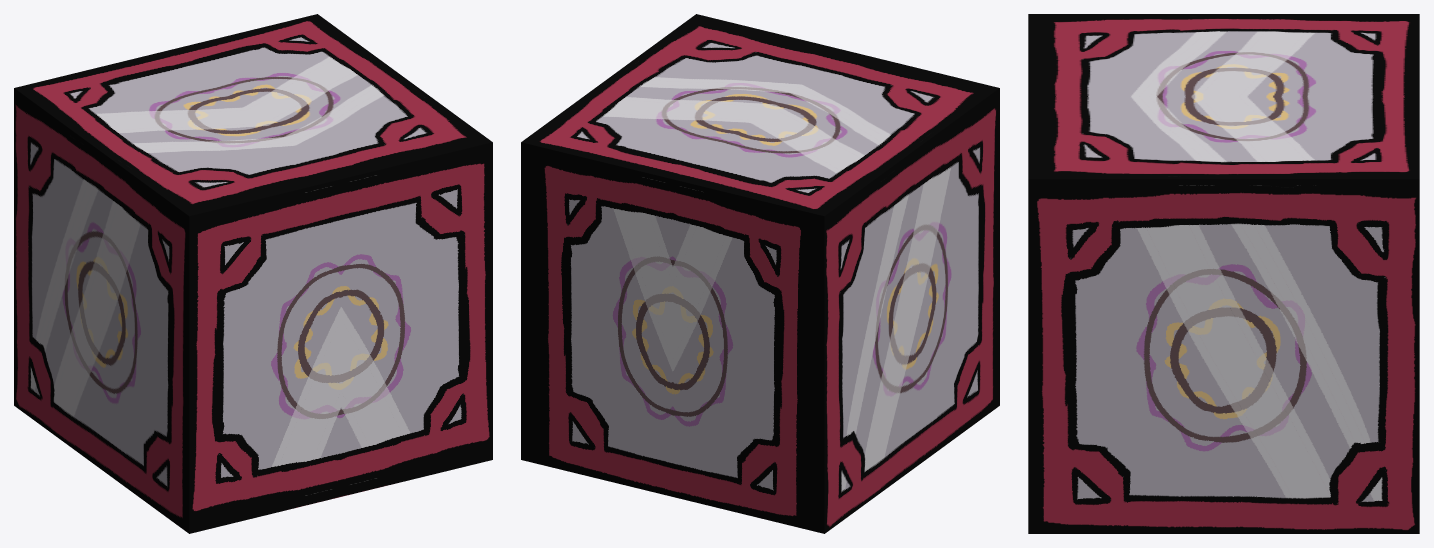
File: Red Switch.fbx
The picture shows the model from 3 angles, left to right: view 1: azimuth 30°, elevation 25°; view 2: azimuth 150°, elevation 25°; view 3: azimuth 270°, elevation 25°; orthographic projection. The views are drawn at different scales.
Visible parts, largest first — view 1: Red Switch; view 2: Red Switch; view 3: Red Switch.
Boxes of the visible parts, box(x1,y1,x2,y2) form: Red Switch: box(14, 14, 492, 533); Red Switch: box(521, 14, 999, 533); Red Switch: box(1028, 14, 1419, 533).
Bounding box in the file's own units: 66.57 × 66.57 × 66.57.
